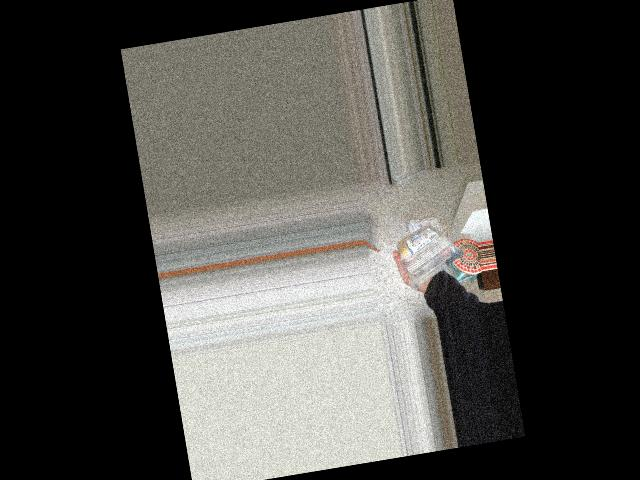cheese: (394, 207, 471, 291)
